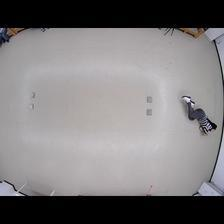fall: (181, 93, 216, 136)
